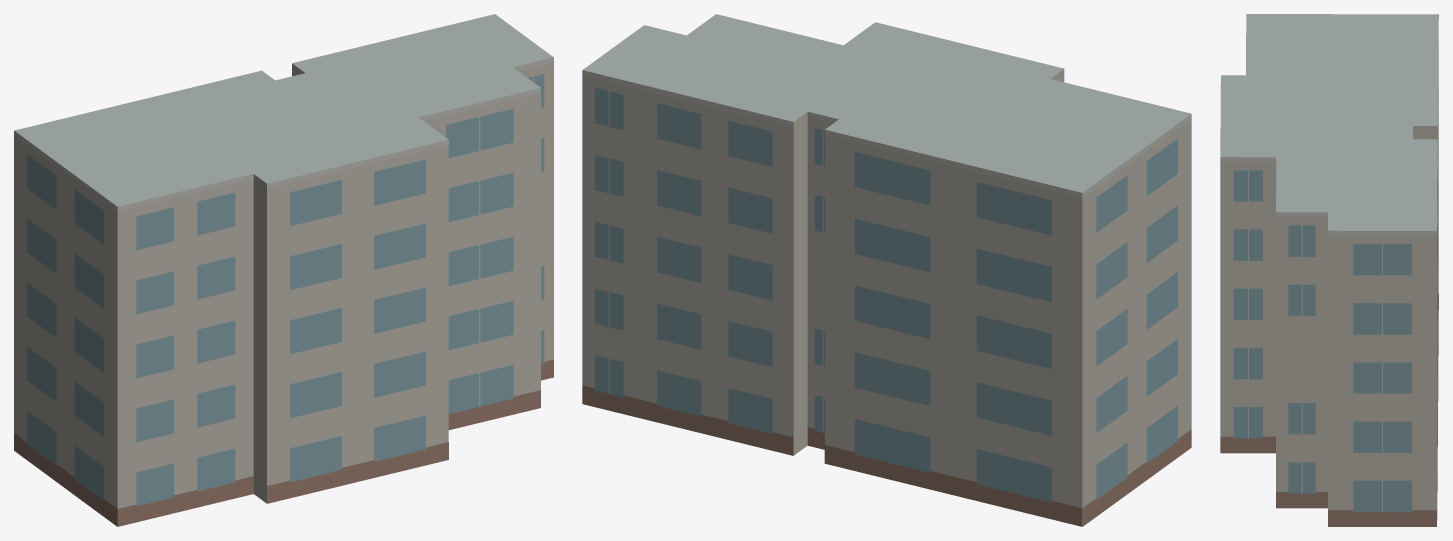
The model's file is survey-upis-32663995.glb.
The picture shows the model from 3 angles, left to right: view 1: azimuth 30°, elevation 25°; view 2: azimuth 150°, elevation 25°; view 3: azimuth 270°, elevation 25°; orthographic projection. The views are drawn at different scales.
Parts seen in each view (by area): view 1: survey-upis-32663995.tmp; view 2: survey-upis-32663995.tmp; view 3: survey-upis-32663995.tmp.
Part boxes in pixels (bbox=[...]): survey-upis-32663995.tmp: bbox=[14, 14, 553, 526]; survey-upis-32663995.tmp: bbox=[582, 14, 1191, 526]; survey-upis-32663995.tmp: bbox=[1220, 14, 1438, 526].
Bounding box in the file's own units: 24.68 × 15.7 × 10.51.
